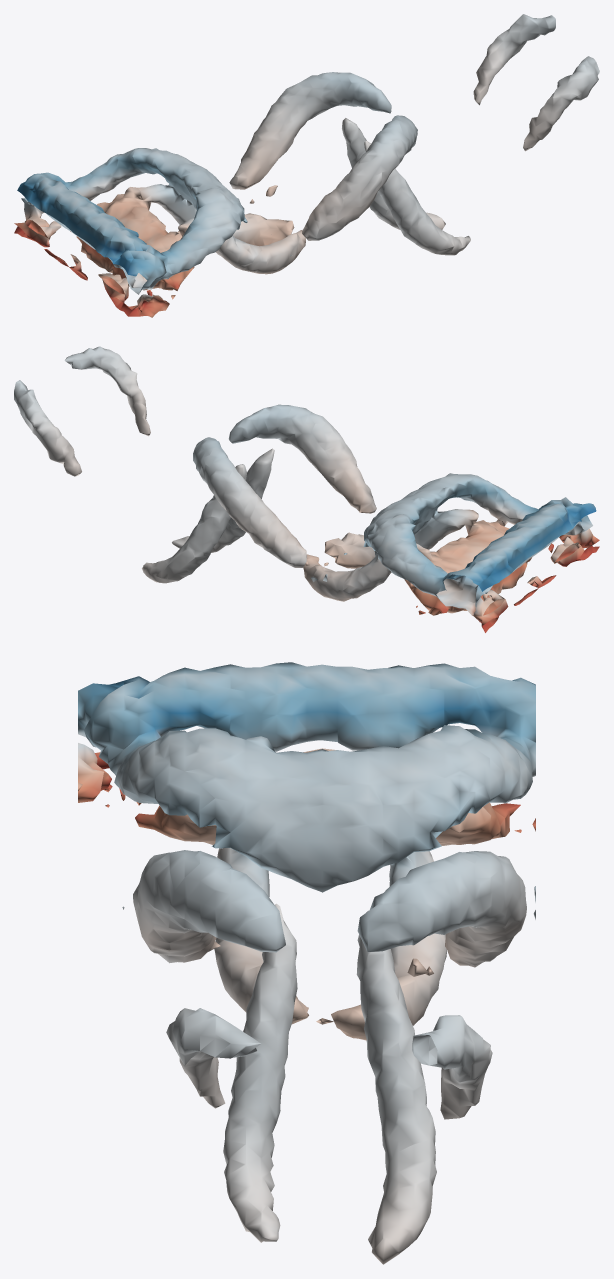
3 views of the same model, one above another, from view 1: azimuth 30°, elevation 25°; view 2: azimuth 150°, elevation 25°; view 3: azimuth 270°, elevation 25° (orthographic). The views are drawn at different scales.
Size of the model in its own units: 6.25 by 2.11 by 2.5.
